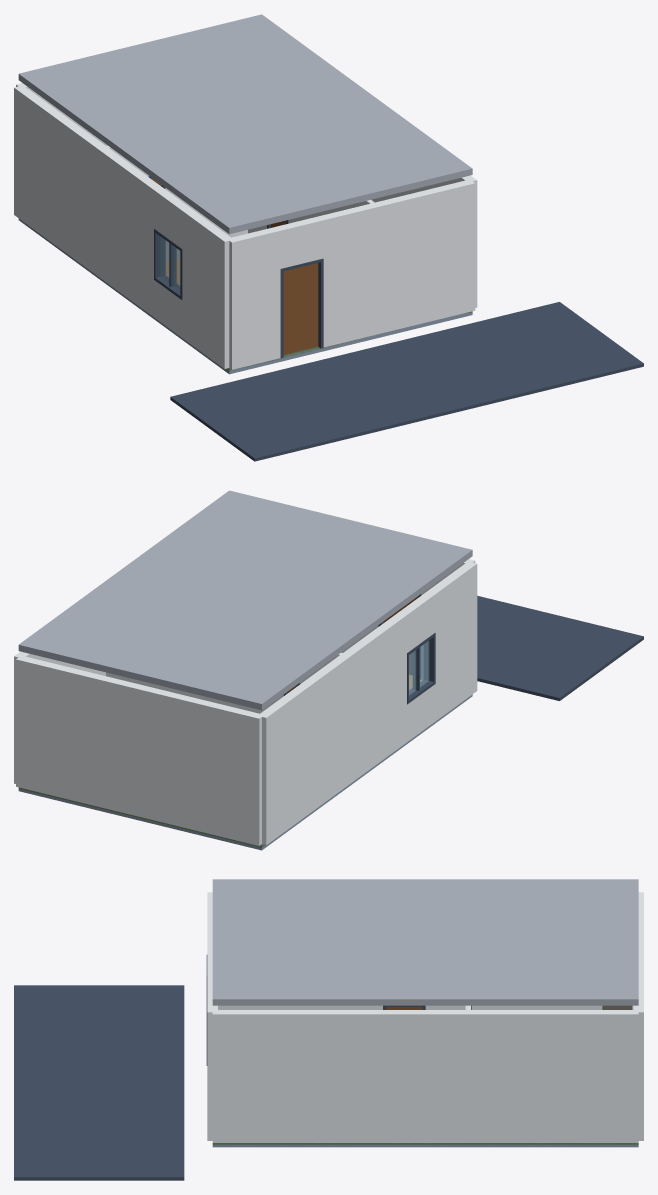
The model's file is one-floor.glb.
3 views of the same model, one above another, from view 1: azimuth 30°, elevation 25°; view 2: azimuth 150°, elevation 25°; view 3: azimuth 270°, elevation 25° (orthographic).
Parts seen in each view (by area): view 1: L1_walls, roof_1, site, L1_doors, L1_slab, L1_windows; view 2: L1_walls, roof_1, site, L1_windows, L1_slab; view 3: L1_walls, roof_1, site, L1_slab, L1_doors.
Boxes of the visible parts, x1,y1,x2,y2 form: L1_walls: (14,83,477,369); roof_1: (18,14,472,234); site: (170,302,643,461); L1_doors: (148,176,323,358); L1_slab: (18,218,472,374); L1_windows: (154,228,182,299); L1_walls: (14,559,477,845); roof_1: (18,490,472,710); site: (18,595,643,847); L1_windows: (407,633,435,704); L1_slab: (18,694,472,850); L1_walls: (207,892,643,1142); roof_1: (212,879,638,1005); site: (14,985,638,1180); L1_slab: (212,1143,638,1147); L1_doors: (206,955,471,1065).
Size of the model in its own units: 9.75 by 3.51 by 13.53.
